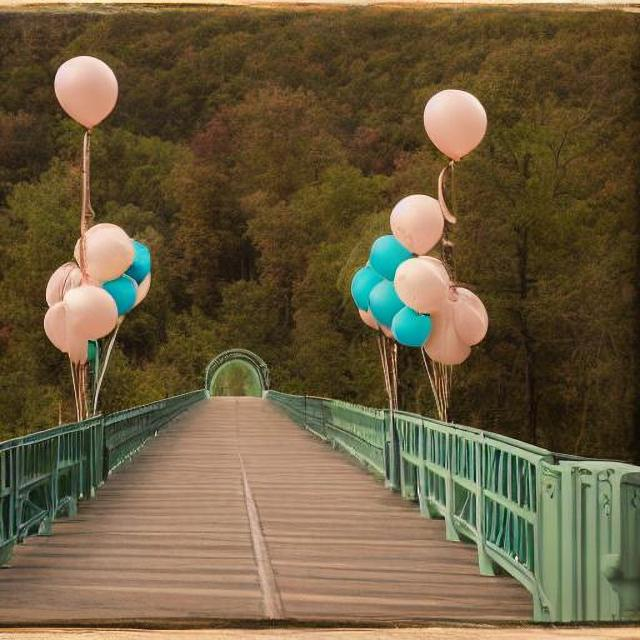balloon: (346, 192, 486, 356), (39, 214, 163, 368), (49, 53, 120, 128), (419, 88, 488, 161)
floating object: (85, 337, 97, 406)
